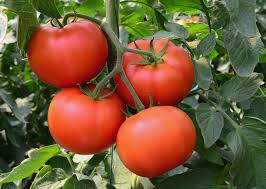stems: (119, 68, 145, 112), (94, 67, 116, 95), (60, 12, 101, 26), (122, 45, 155, 61)
tomato: (115, 105, 197, 178), (111, 39, 195, 109), (26, 17, 108, 88), (47, 83, 126, 156)
